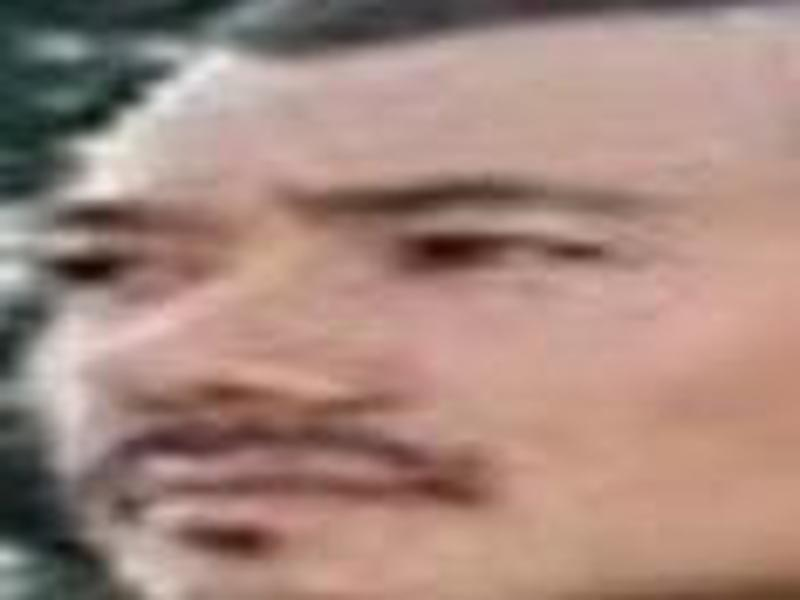without_mask: (17, 59, 800, 595)
